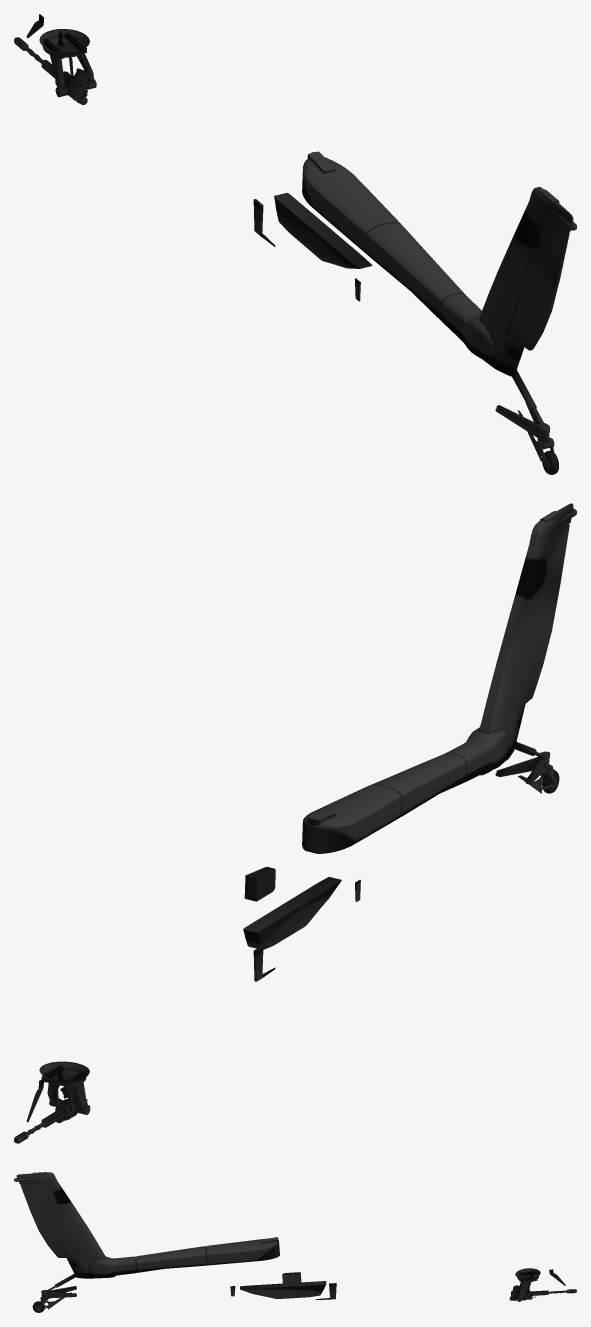
Rendered from apache_2018-details2.obj.
3 renders of one model, top to bottom at view 1: azimuth 30°, elevation 25°; view 2: azimuth 150°, elevation 25°; view 3: azimuth 270°, elevation 25°, orthographic. The views are drawn at different scales.
Parts seen in each view (by area): view 1: apache_2018-details2.obj; view 2: apache_2018-details2.obj; view 3: apache_2018-details2.obj.
Part boxes in pixels (x1=…): apache_2018-details2.obj: x1=14, y1=14, x2=576, y2=474; apache_2018-details2.obj: x1=14, y1=503, x2=576, y2=1143; apache_2018-details2.obj: x1=14, y1=1172, x2=576, y2=1312.
Size of the model in its own units: 0.0831 by 0.3313 by 1.2.
Materials: 1 (1 with a texture image).
